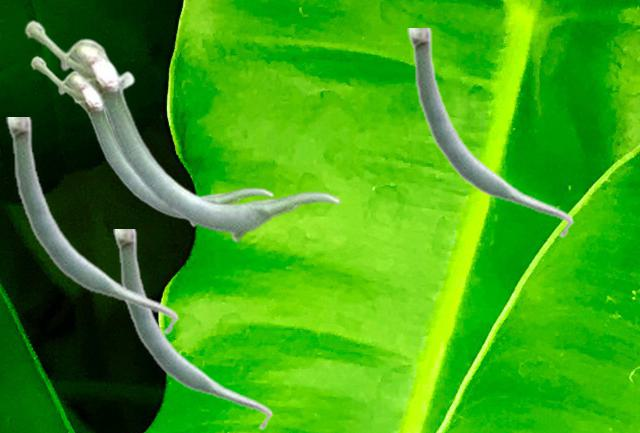french_bean: (24, 19, 340, 242), (30, 55, 273, 226), (6, 117, 178, 335), (407, 28, 573, 238), (113, 229, 272, 430)
